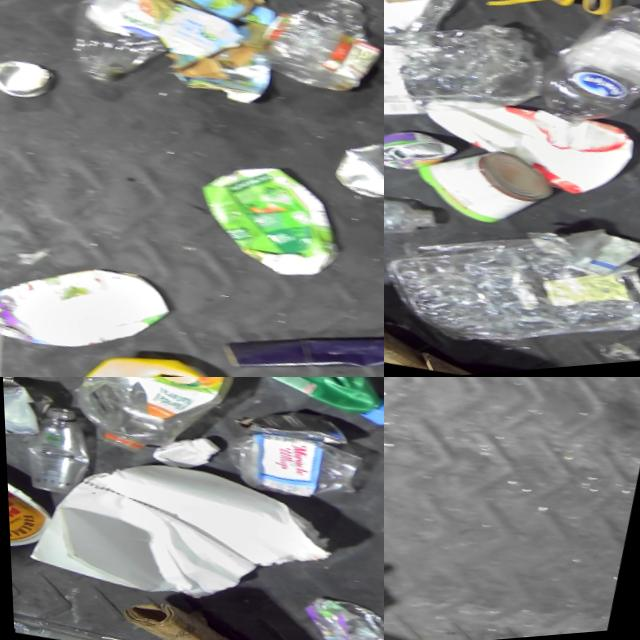can: (401, 134, 559, 248), (317, 135, 384, 224), (384, 121, 456, 190), (0, 52, 55, 112)
milk_jug: (399, 81, 638, 225)
non_white_jug: (179, 150, 354, 304), (49, 377, 244, 478), (148, 377, 384, 453), (50, 333, 265, 377)
plastic_bottle: (517, 0, 640, 165), (245, 0, 384, 115), (53, 0, 180, 104), (12, 397, 100, 505), (384, 158, 437, 288), (54, 0, 225, 24)
